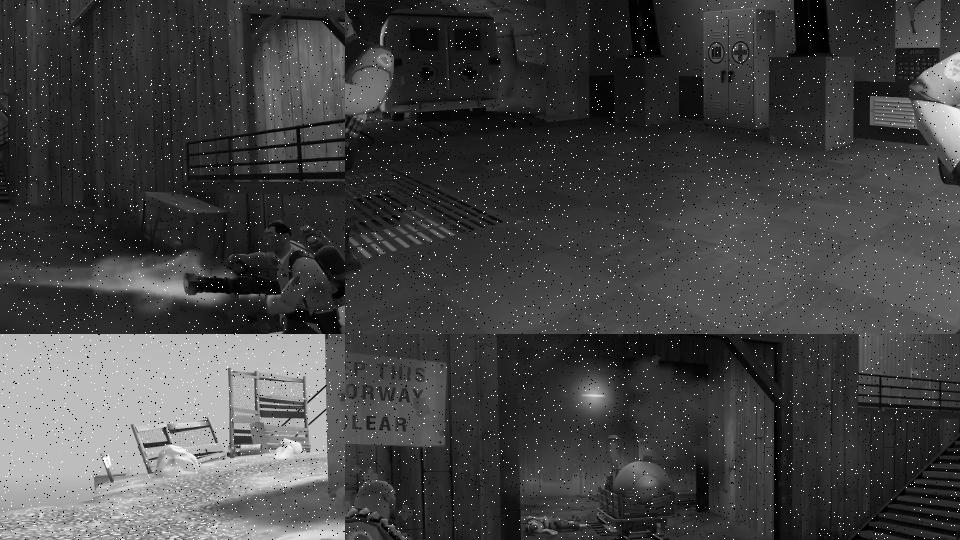Enemy: (182, 219, 345, 334), (345, 6, 397, 276), (345, 477, 558, 540)
